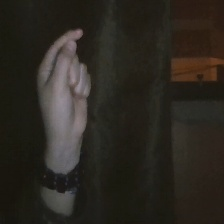T: (31, 24, 100, 156)
